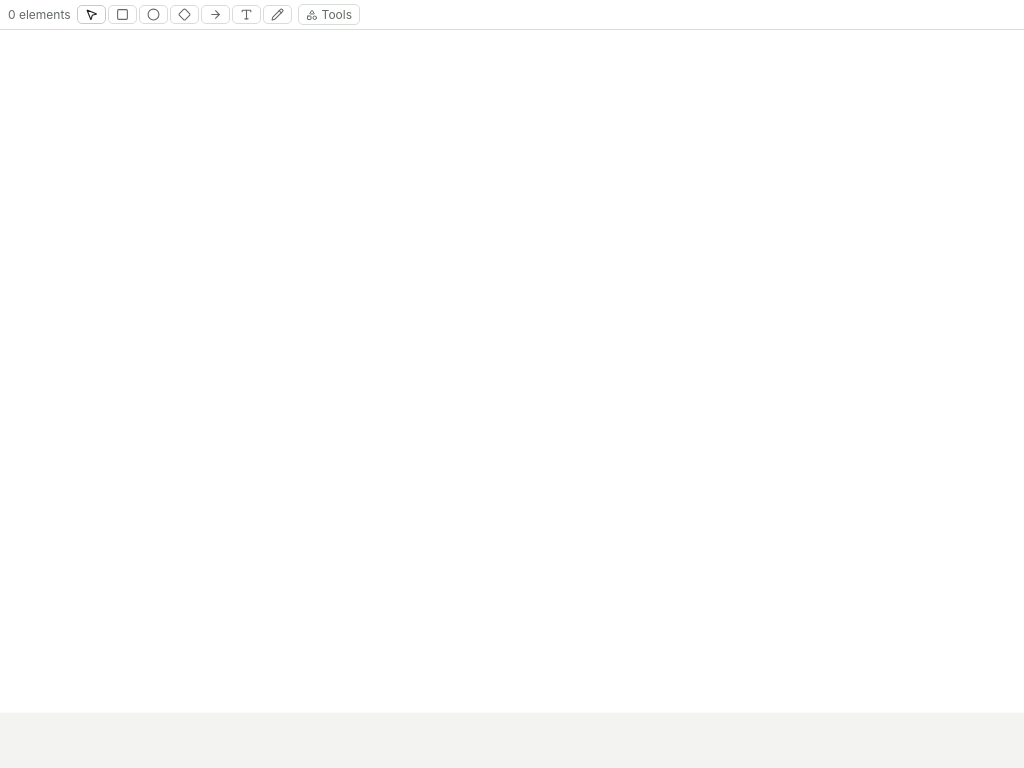
Test: WhiteboardNodeFace popover › exports the whiteboard as an SVG through the native bridge
The image size is (1024, 768).
Step 1. Click the button named "Draw rectangle" → (122, 14), box x1=108 y1=5 x2=137 y2=24
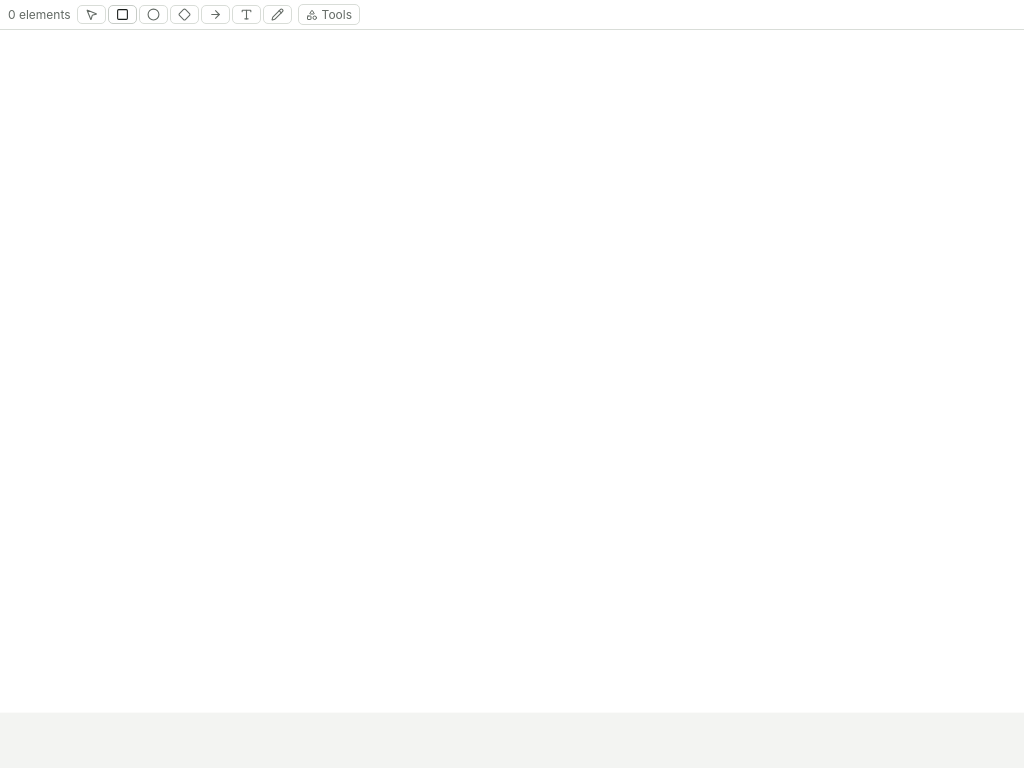
Step 2. Press the mouse on the icon named "Whiteboard canvas" → (512, 371), box x1=0 y1=30 x2=1023 y2=713
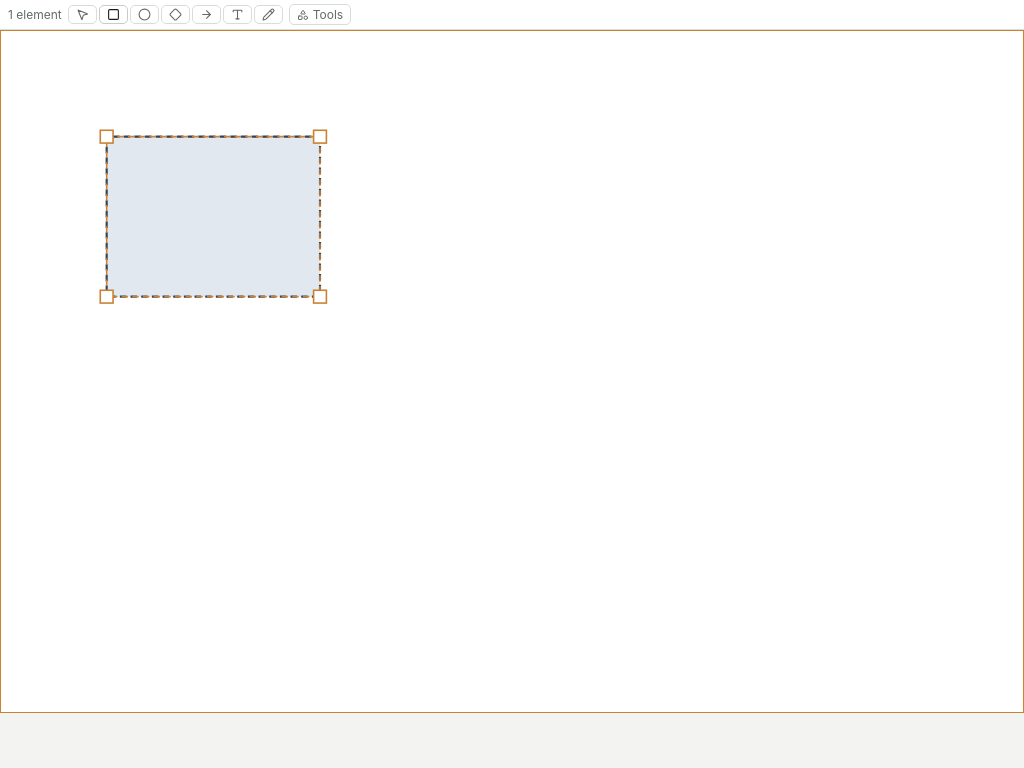
Step 3. Click the button with aria-label "Whiteboard tools" → (320, 14), box x1=289 y1=4 x2=351 y2=25
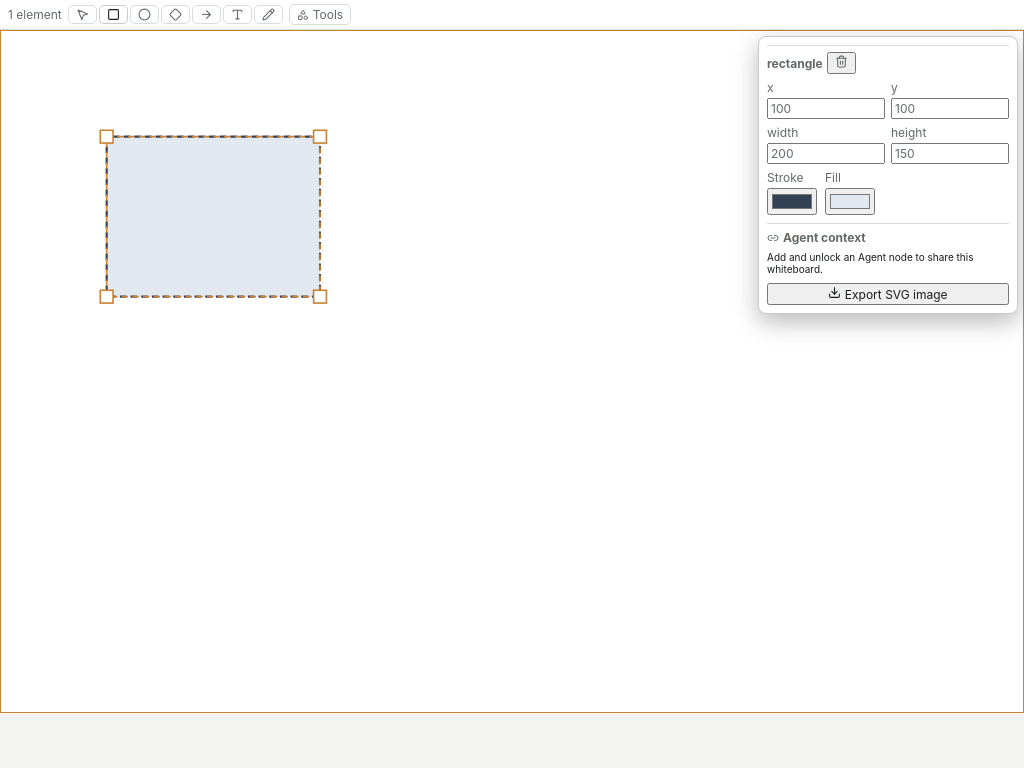
Step 4. Click the button "Export SVG image" → (888, 294), box x1=767 y1=283 x2=1009 y2=305
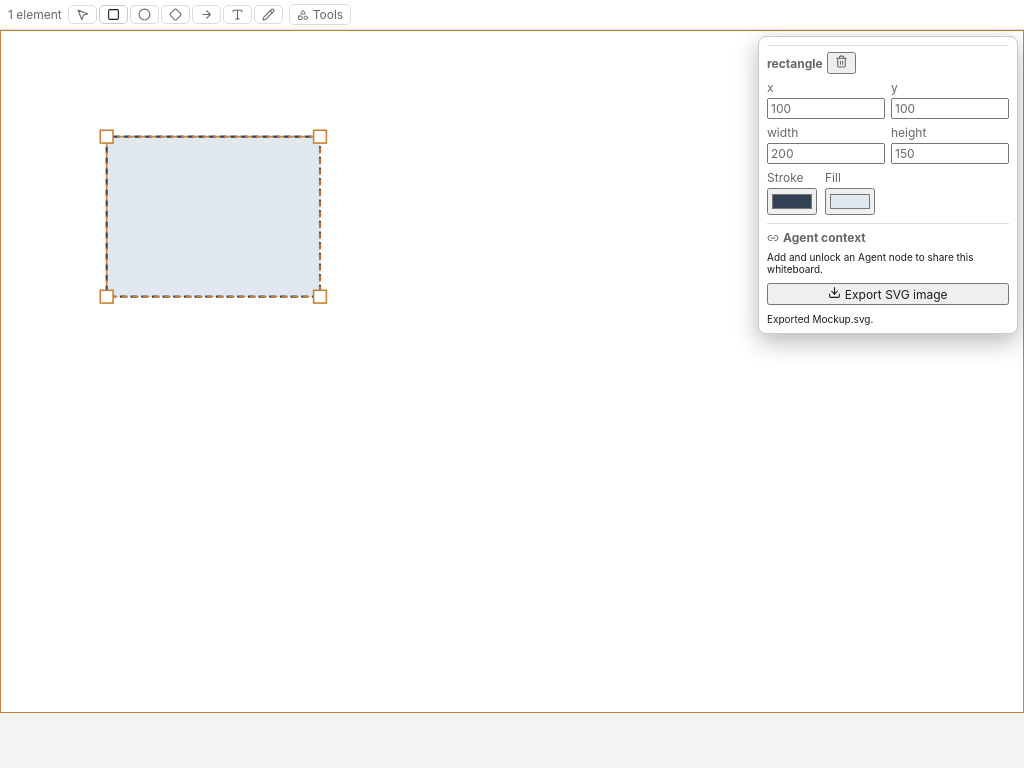
Expected: the text "Exported Mockup.svg." is shown, x1=767 y1=313 x2=873 y2=325
